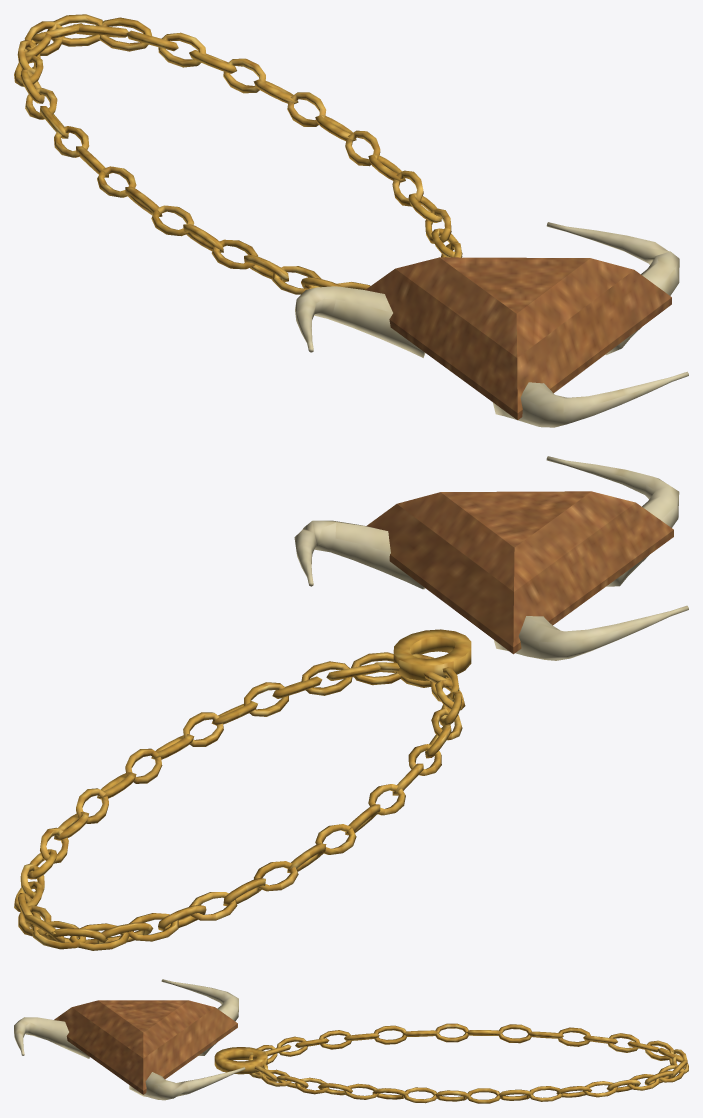
Rendered from item_amulet2.glb.
The picture shows the model from 3 angles, top to bottom: view 1: azimuth 30°, elevation 25°; view 2: azimuth 150°, elevation 25°; view 3: azimuth 270°, elevation 25°; orthographic projection. The views are drawn at different scales.
Visible parts, largest first — view 1: amulet_amulet2; view 2: amulet_amulet2; view 3: amulet_amulet2.
Boxes of the visible parts, <box> form: amulet_amulet2: <box>14,14,688,427</box>; amulet_amulet2: <box>14,456,688,950</box>; amulet_amulet2: <box>14,979,688,1103</box>.
Size of the model in its own units: 0.8943 by 0.2311 by 2.35.
Materials: 3 (3 with a texture image).
